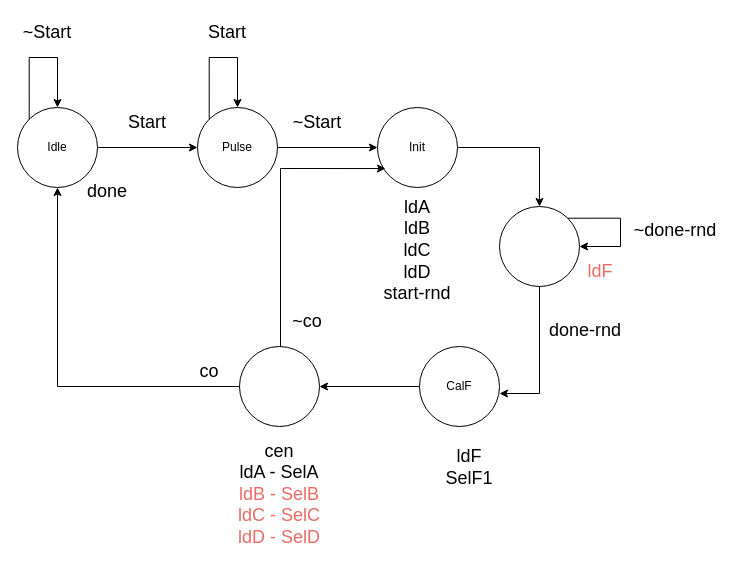
Image size: 738x565. Some labels were removed from this diagram. The centre of each missing label's shape, as x and y in pixels:
"GenRand" goes at pixel 539 246.
"ldReg" goes at pixel 279 386.
